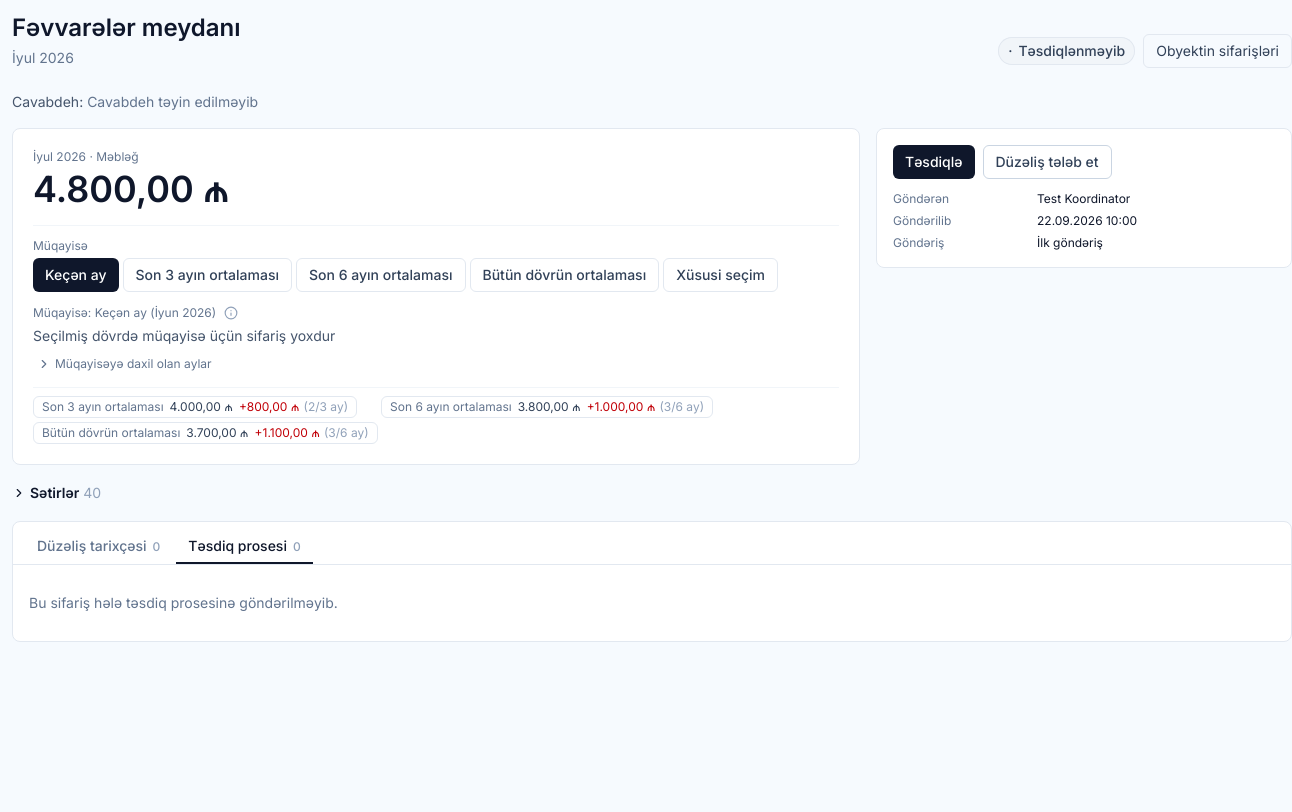
Test case: what the window is made of › lists the window even when it holds no order at all
The image size is (1292, 812).
Expected: the element named "Sifarişin məbləği və müqayisəsi" is shown, left=12, top=128, right=860, bottom=465
Expected: the text "Seçilmiş dövrdə müqayisə üçün sifariş yoxdur" is shown, left=33, top=327, right=335, bottom=344
What coordinates should you click on to do the following:
click the button "Müqayisəyə daxil olan aylar"
I would click on:
 (124, 364)
Its box is left=33, top=354, right=216, bottom=374.
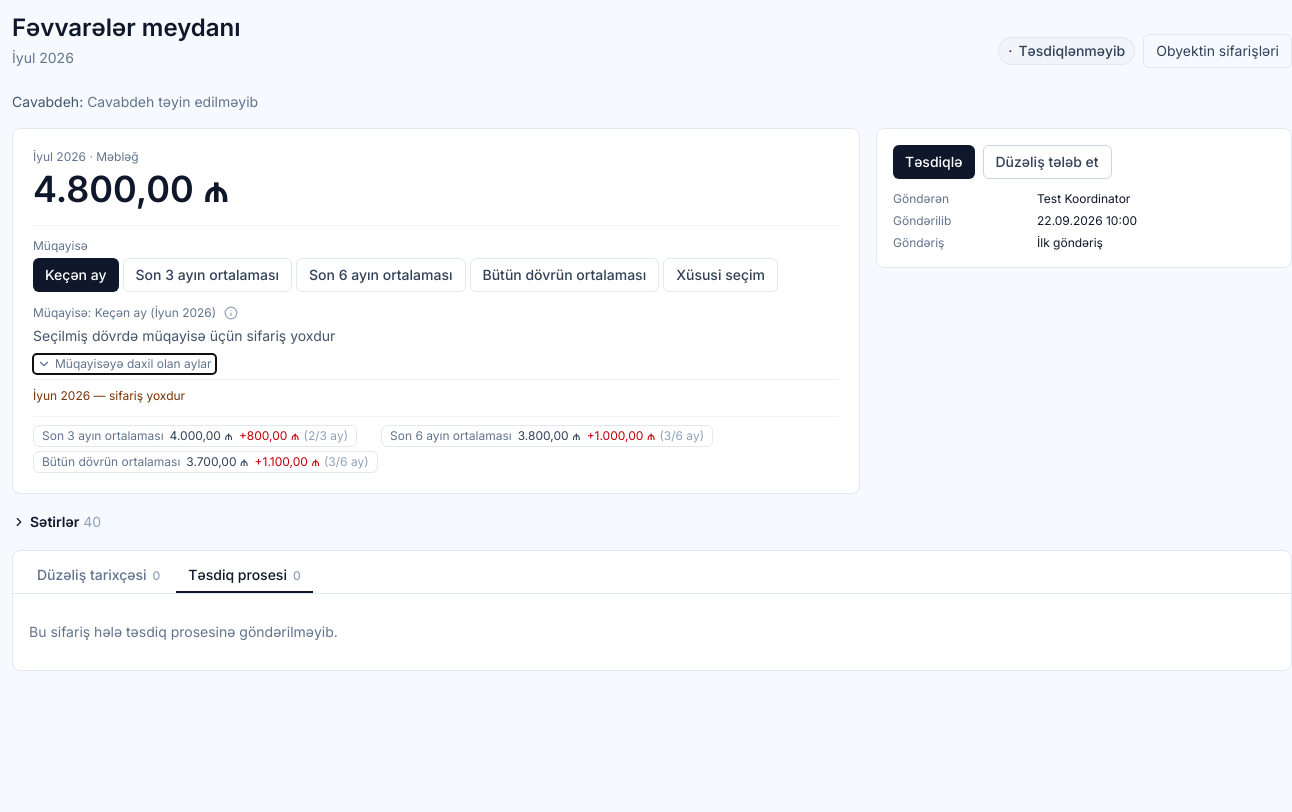
Result: the list item "İyun 2026 — sifariş yoxdur" is shown at left=33, top=388, right=185, bottom=403
